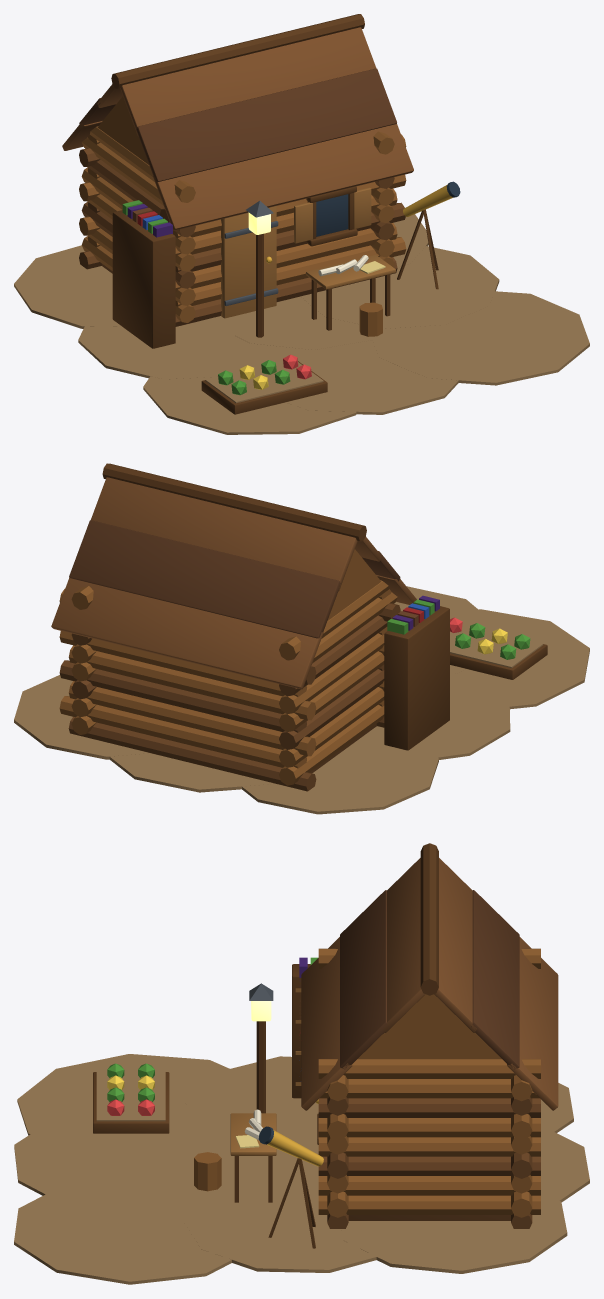
File: akademia_poz04.glb
3 views of the same model, one above another, from view 1: azimuth 30°, elevation 25°; view 2: azimuth 150°, elevation 25°; view 3: azimuth 270°, elevation 25° (orthographic). The views are drawn at different scales.
Parts seen in each view (by area): view 1: akademia_poz04; view 2: akademia_poz04; view 3: akademia_poz04.
Boxes of the visible parts, x1=… form: akademia_poz04: x1=14, y1=14, x2=589, y2=434; akademia_poz04: x1=14, y1=463, x2=589, y2=814; akademia_poz04: x1=14, y1=843, x2=589, y2=1284.
Size of the model in its own units: 7.05 by 3.74 by 7.52.
